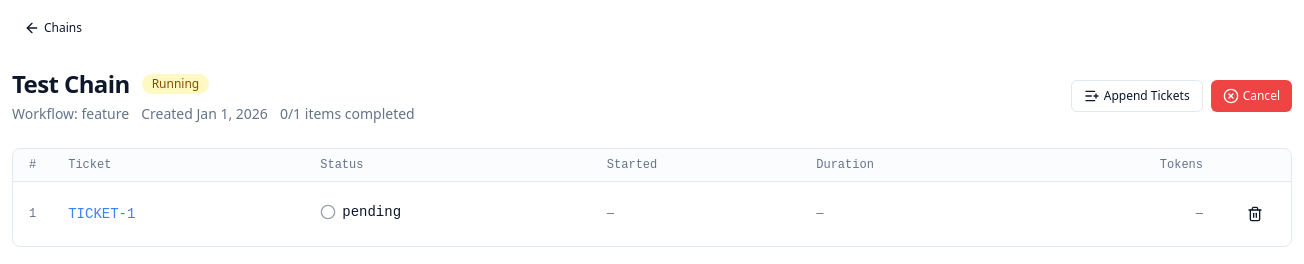
Test: ChainDetailPage - Remove confirmation flow › clicking the remove button shows inline confirmation
The image size is (1304, 264).
Click the 4th button: (1255, 214) [1235, 194, 1275, 234]
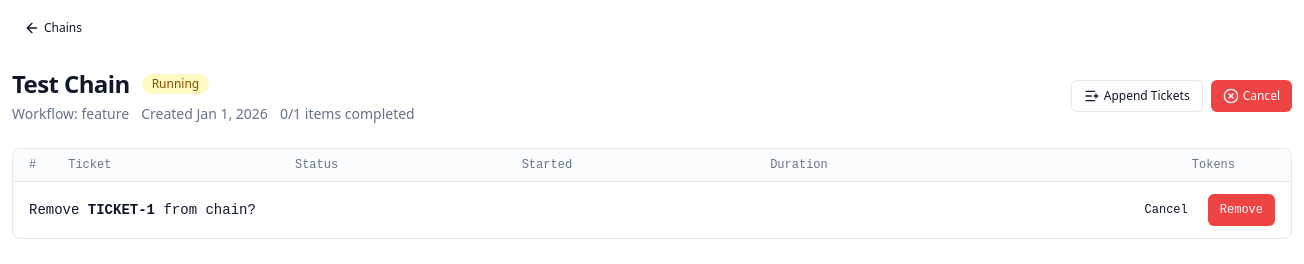
Now the text "Remove TICKET-1 from chain? Cancel Remove" is shown, box [13, 182, 1291, 238]
Now the button "Cancel" in the row of "from chain?" is shown, box [1133, 194, 1200, 226]
Now the button "Remove" is shown, box [1208, 194, 1275, 226]
